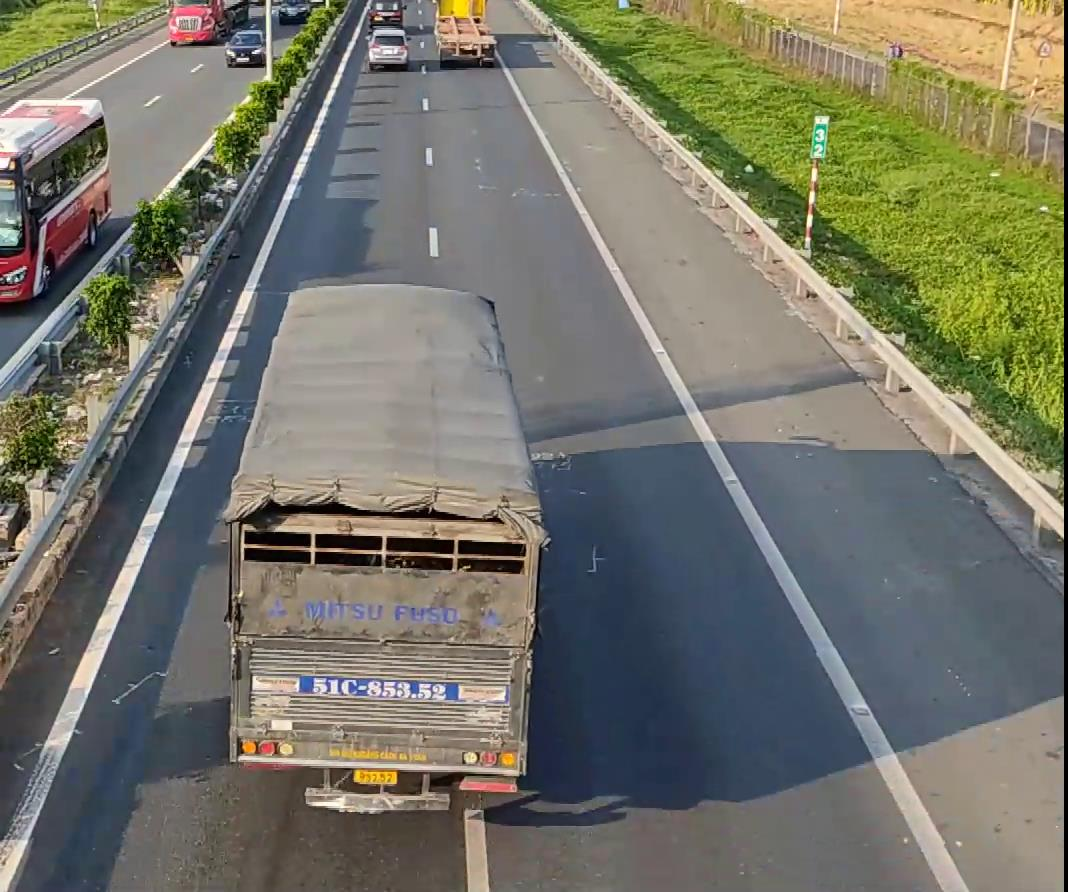bus: (0, 96, 113, 304)
truck: (229, 275, 547, 813)
